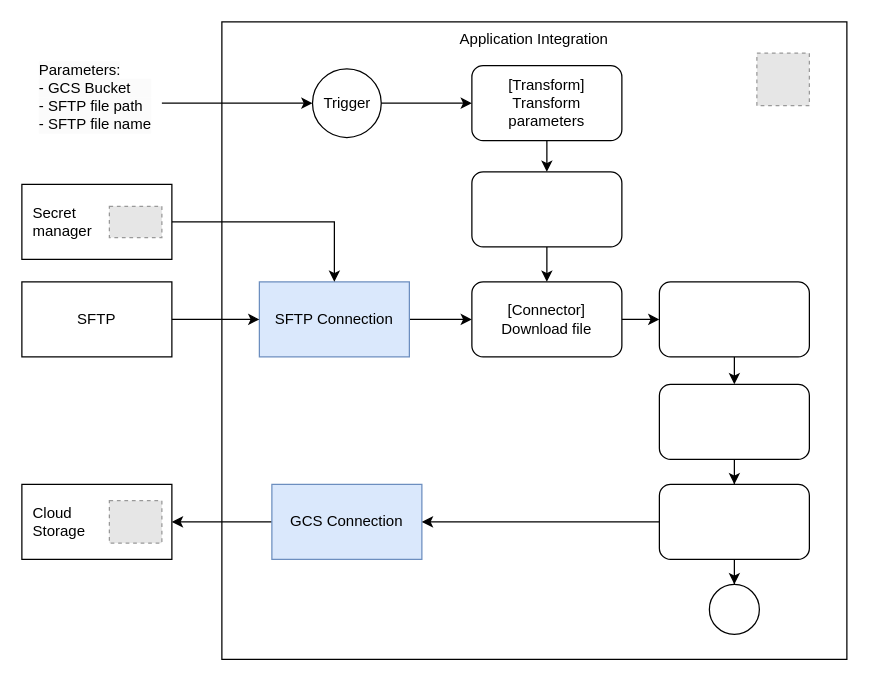
The diagram is 869 pixels wide and 681 high, and some of its shapes have lost their labels. Grey dashed boxes stand in for pictures. Here are the shapes that lost their labels. From the top down, the box of each, then its label:
(471, 171, 622, 247): [Map] Prepare SFTP Input
(658, 281, 809, 357): [Transform] Parse file content
(658, 383, 809, 459): [Map] Prepare file upload
(658, 483, 809, 559): [Connector] Upload to Cloud Storage
(708, 583, 759, 634): End
